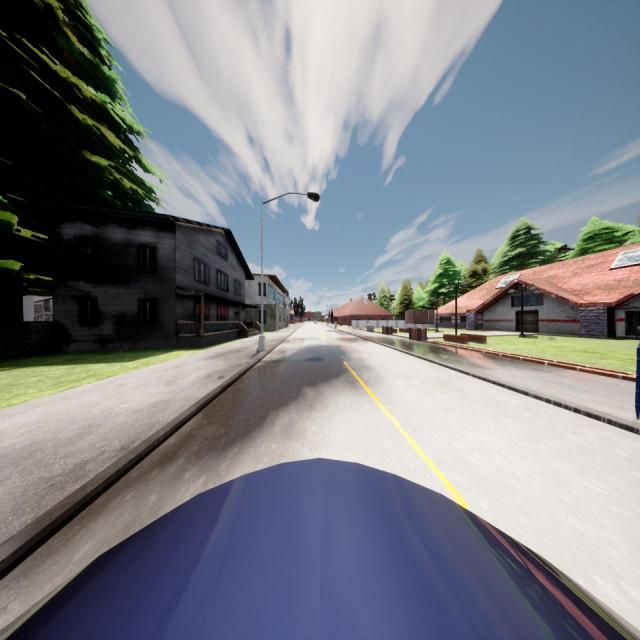Pedestrian: (335, 319, 337, 329)
Vehicle: (0, 461, 640, 640)
